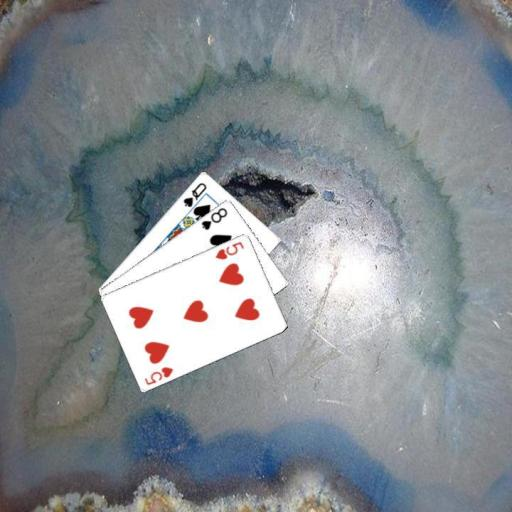5H: (141, 364, 175, 387), (213, 238, 245, 261)
8S: (198, 204, 229, 231)
QS: (180, 180, 208, 209)
